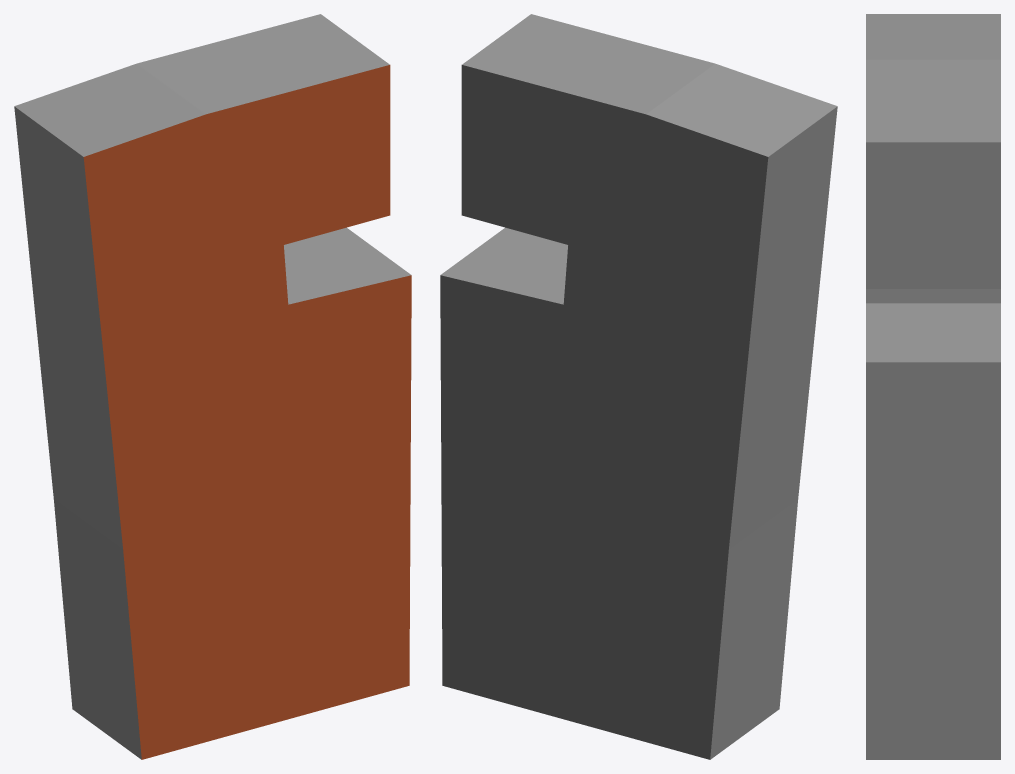
Rendered from construction_6366_assumed_A_Casa_h6m.obj.
3 views of the same model, side by side, from view 1: azimuth 30°, elevation 25°; view 2: azimuth 150°, elevation 25°; view 3: azimuth 270°, elevation 25° (orthographic). The views are drawn at different scales.
Visible parts, largest first — view 1: construction_6366_assumed_A_Casa; view 2: construction_6366_assumed_A_Casa; view 3: construction_6366_assumed_A_Casa.
Part boxes in pixels (<box>): construction_6366_assumed_A_Casa: <box>14,14,411,759</box>; construction_6366_assumed_A_Casa: <box>440,14,837,759</box>; construction_6366_assumed_A_Casa: <box>866,14,1000,759</box>.
Size of the model in its own units: 16.38 by 30.28 by 6.
